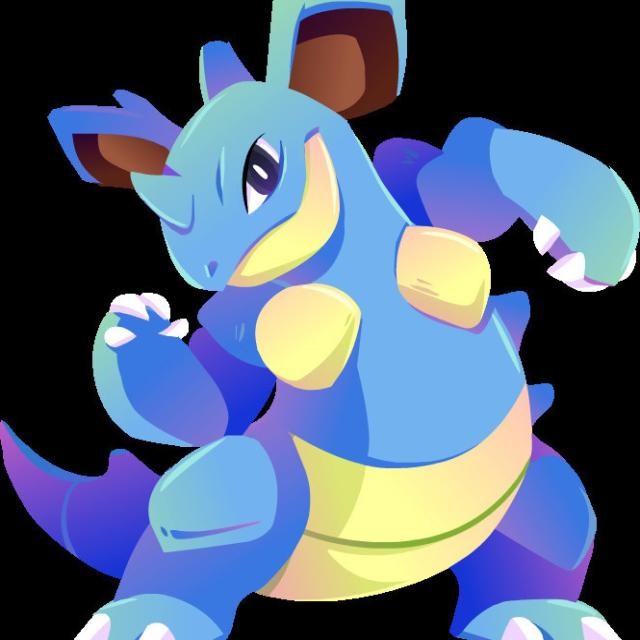Nidoqueen: (41, 0, 640, 640)
